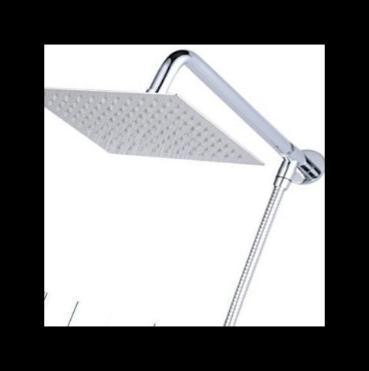Ducha: (44, 45, 324, 326)
